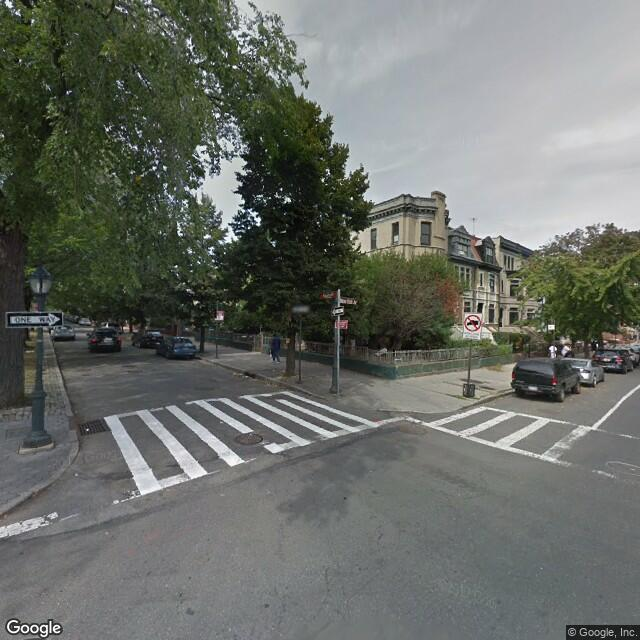litter: (238, 371, 255, 383), (81, 423, 97, 433)
